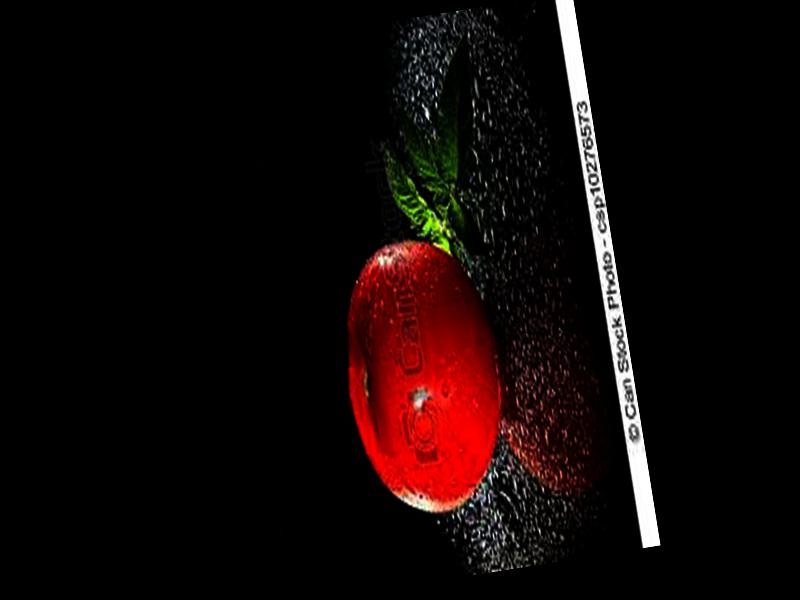Tomato: (326, 229, 519, 523)
